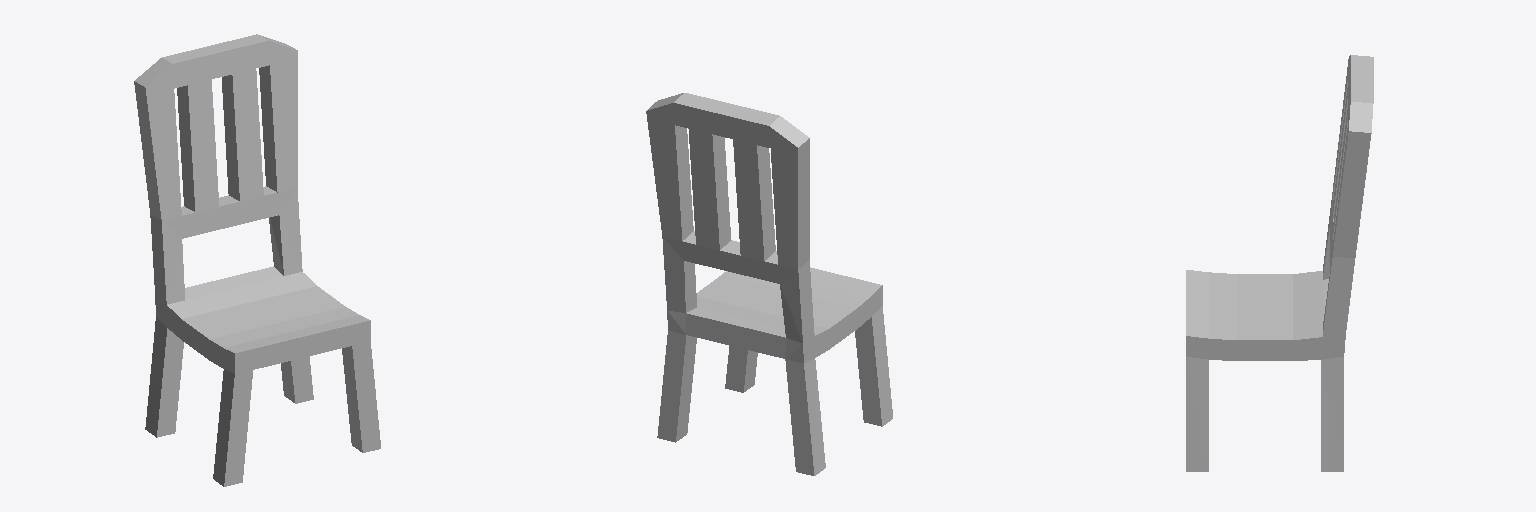
File: chair.obj
3 views of the same model, side by side, from view 1: azimuth 30°, elevation 25°; view 2: azimuth 150°, elevation 25°; view 3: azimuth 270°, elevation 25° (orthographic).
Visible parts, largest first — view 1: Ex6_Combined:pCube3 group1; view 2: Ex6_Combined:pCube3 group1; view 3: Ex6_Combined:pCube3 group1.
Part boxes in pixels (x1,y1,x2,y2): Ex6_Combined:pCube3 group1: (134, 34, 380, 486); Ex6_Combined:pCube3 group1: (646, 93, 892, 475); Ex6_Combined:pCube3 group1: (1186, 55, 1373, 471).
Size of the model in its own units: 4.84 by 10.45 by 4.98.